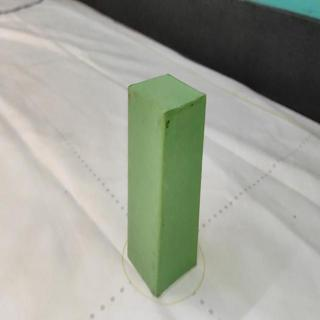greenbox: (127, 72, 204, 298)
